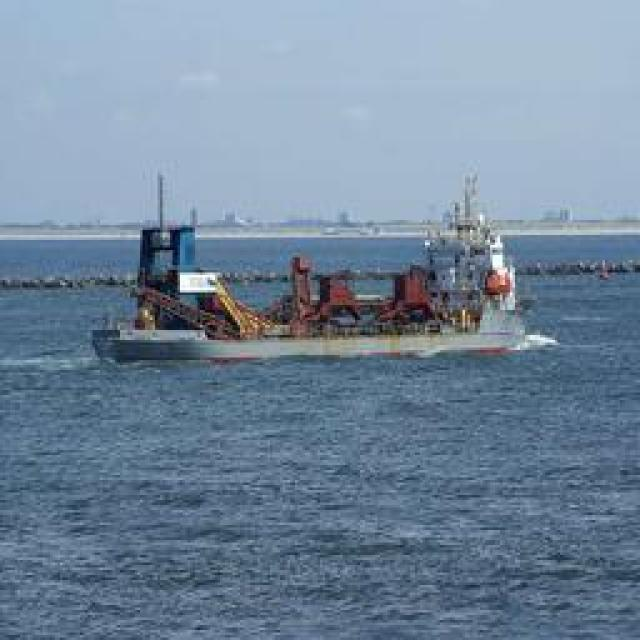CIV_Ship: (102, 170, 536, 382)
